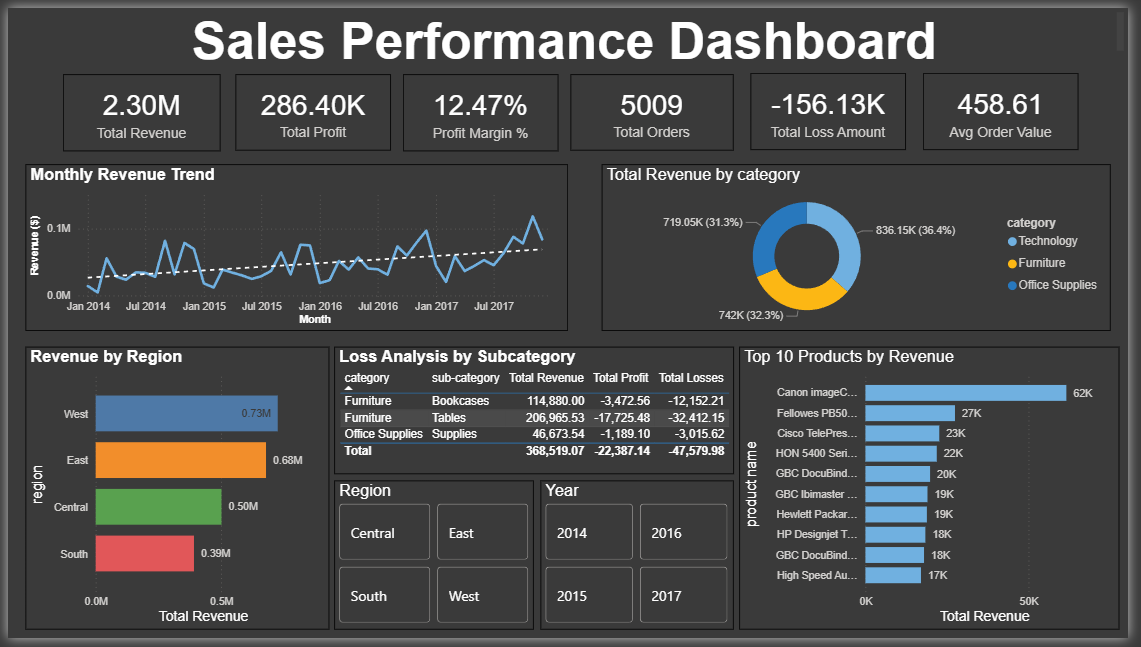

The page's visual inventory and layout, read from the dashboard file:
{"tool":"powerbi","page":{"name":"Page 1","canvas":[1280,720],"ordinal":0},"visuals":[{"type":"card","fields":{"Values":["superstore_cleaned.Total Revenue"]},"box":[62.9,75.3,180.4,88.3],"z":0},{"type":"card","fields":{"Values":["superstore_cleaned.Total Profit"]},"box":[259.5,75.3,177.9,87.1],"z":1000},{"type":"card","fields":{"Values":["superstore_cleaned.Profit Margin %"]},"box":[452.1,75.3,177.9,88.3],"z":2000},{"type":"card","fields":{"Values":["superstore_cleaned.Total Losses"]},"box":[848.4,74,177.9,88.3],"z":3000},{"type":"card","fields":{"Values":["superstore_cleaned.Avg Order Value"]},"box":[1046,74,177.9,88.3],"z":4000},{"type":"textbox","box":[0,0,1280,64.3],"z":5000},{"type":"lineChart","title":"Monthly Revenue Trend","fields":{"Category":["superstore_cleaned.yearmonth.Variation.Date Hierarchy.Year"],"Y":["superstore_cleaned.Total Revenue"]},"box":[20,178.6,620,190],"z":6000},{"type":"clusteredBarChart","title":"Revenue by Region","fields":{"Category":["superstore_cleaned.region"],"Y":["superstore_cleaned.Total Revenue"]},"box":[20,387.1,347.1,322.9],"z":7000},{"type":"clusteredBarChart","title":"Top 10 Products by Revenue","fields":{"Category":["superstore_cleaned.product name"],"Y":["superstore_cleaned.Total Revenue"]},"box":[835.7,387.1,434.3,322.9],"z":8000},{"type":"tableEx","title":"Loss Analysis by Subcategory","fields":{"Values":["superstore_cleaned.category","superstore_cleaned.sub-category","superstore_cleaned.Total Revenue","superstore_cleaned.Total Profit","superstore_cleaned.Total Losses"]},"box":[372.9,387.1,457.1,145.7],"z":9000},{"type":"card","fields":{"Values":["superstore_cleaned.Total Orders"]},"box":[643.5,75.3,186.5,87.1],"z":10000},{"type":"donutChart","fields":{"Category":["superstore_cleaned.category"],"Y":["superstore_cleaned.Total Revenue"]},"box":[678.6,178.6,581.4,190],"z":11000},{"type":"advancedSlicerVisual","fields":{"Values":["superstore_cleaned.region"]},"box":[373,540,228,170],"z":11001},{"type":"advancedSlicerVisual","fields":{"Values":["superstore_cleaned.year"]},"box":[609,540,221,170],"z":11002}]}

Visuals, with their boxes in screenshot pixels (x1, y1, x2, y2), scaled from the page's 1280x720 canvas onto the 1141x647 screenshot:
card - superstore_cleaned.Total Revenue: (56, 68, 217, 147)
card - superstore_cleaned.Total Profit: (231, 68, 390, 146)
card - superstore_cleaned.Profit Margin %: (403, 68, 562, 147)
card - superstore_cleaned.Total Losses: (756, 66, 915, 146)
card - superstore_cleaned.Avg Order Value: (932, 66, 1091, 146)
textbox: (0, 0, 1140, 58)
"Monthly Revenue Trend" lineChart: (18, 160, 570, 331)
"Revenue by Region" clusteredBarChart: (18, 348, 327, 638)
"Top 10 Products by Revenue" clusteredBarChart: (745, 348, 1132, 638)
"Loss Analysis by Subcategory" tableEx: (332, 348, 740, 479)
card - superstore_cleaned.Total Orders: (574, 68, 740, 146)
donutChart - superstore_cleaned.category x superstore_cleaned.Total Revenue: (605, 160, 1123, 331)
advancedSlicerVisual - superstore_cleaned.region: (332, 485, 536, 638)
advancedSlicerVisual - superstore_cleaned.year: (543, 485, 740, 638)
